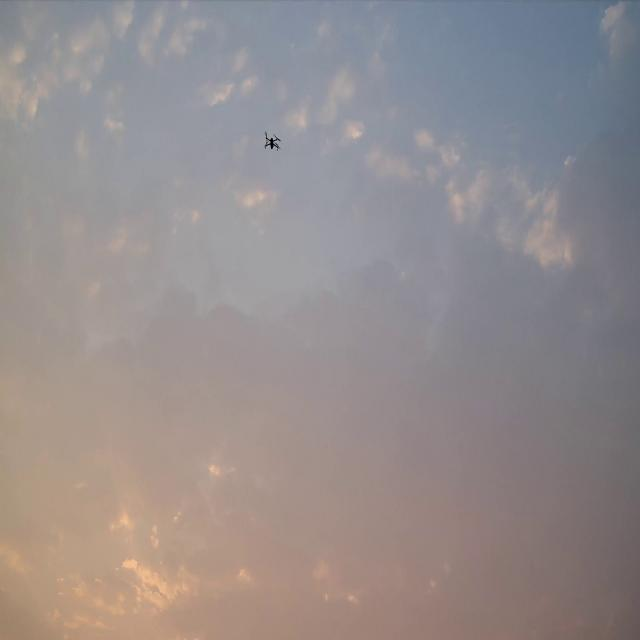drone: (262, 130, 282, 152)
